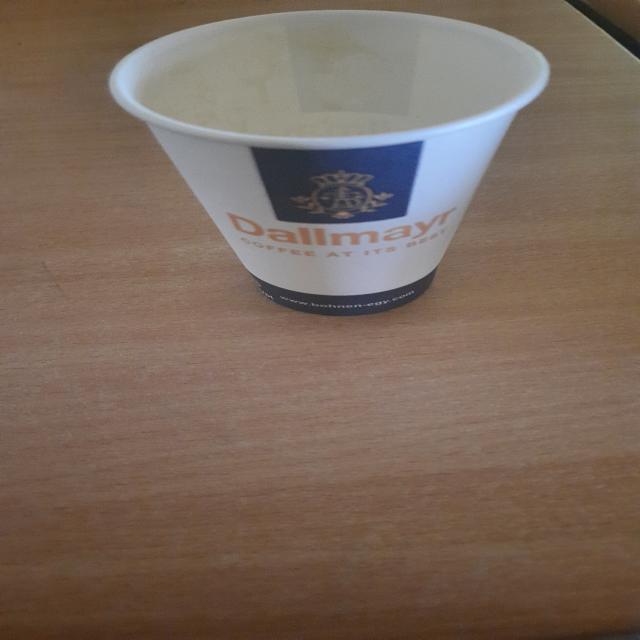plastic: (79, 5, 554, 348)
